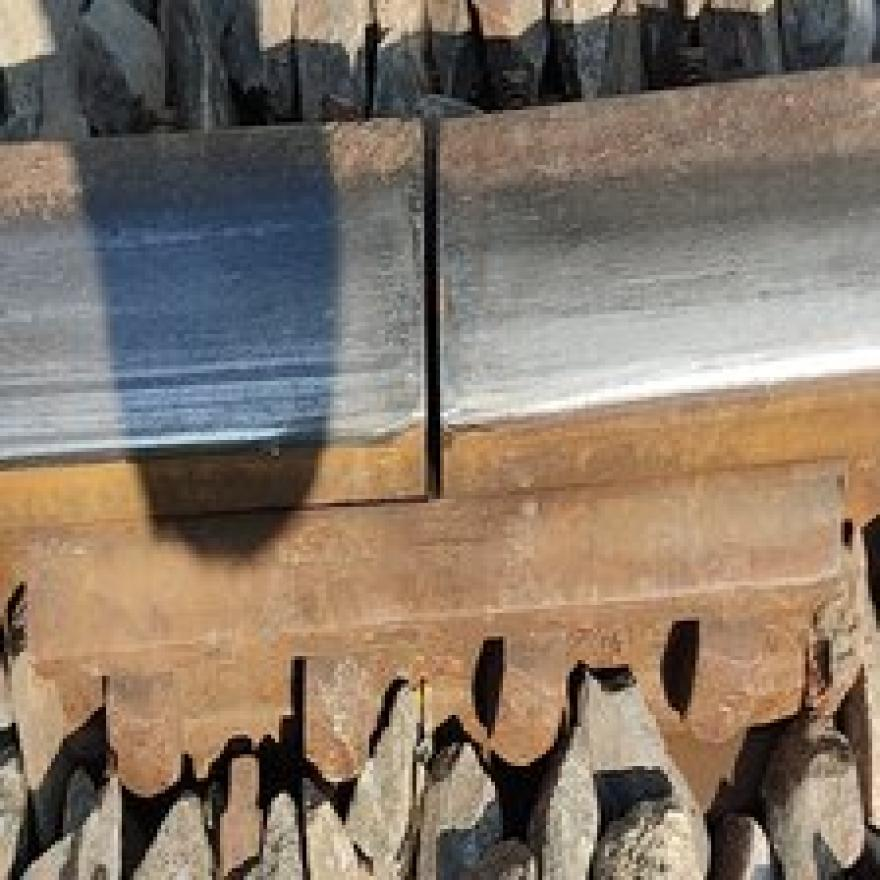railway-gap: (224, 95, 642, 533)
